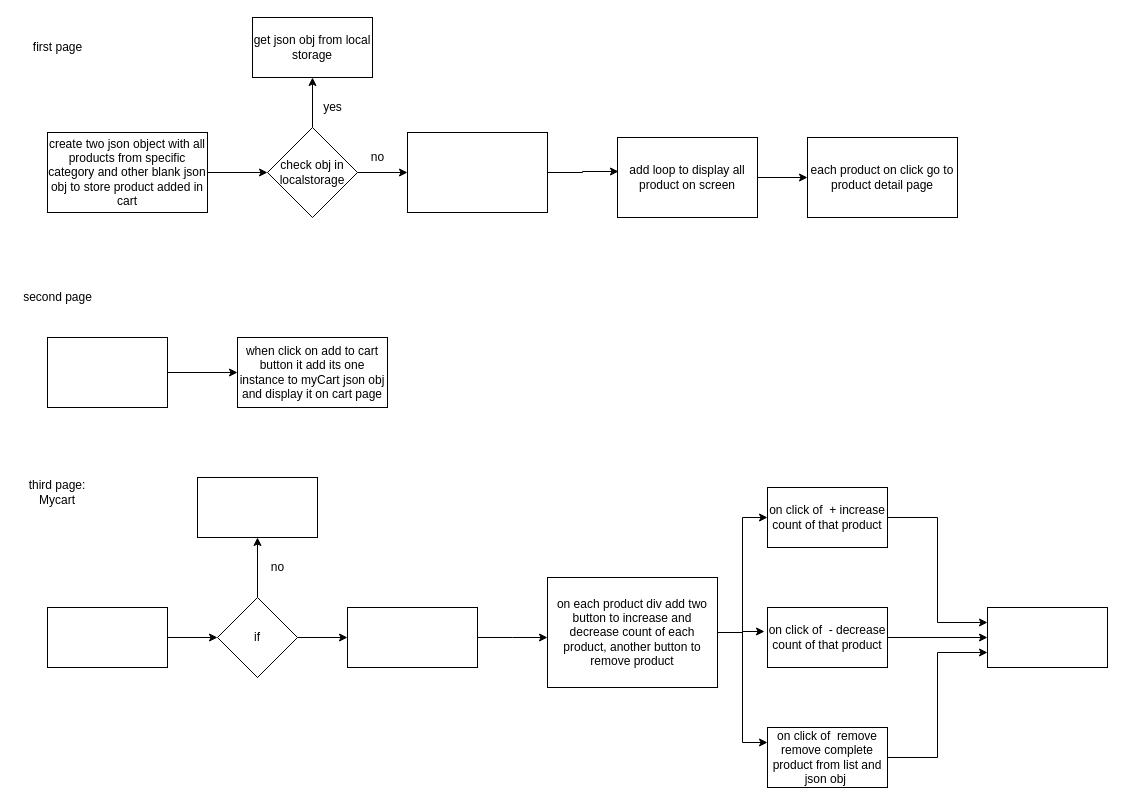
Some shapes in this 1125 by 805 pixel diagram are drawn without their labels. The centre of each missing label's shape, as x and y in pixels:
check any product added in cart json object: (x=107, y=637)
contain product details and button to add to cart: (x=107, y=372)
dispaly added product list on Mycart page and show count on top: (x=412, y=637)
dispay msg 'your cart is empty': (x=257, y=507)
set Json object in local storage: (x=477, y=172)
update json obj in localstorage: (x=1047, y=637)
